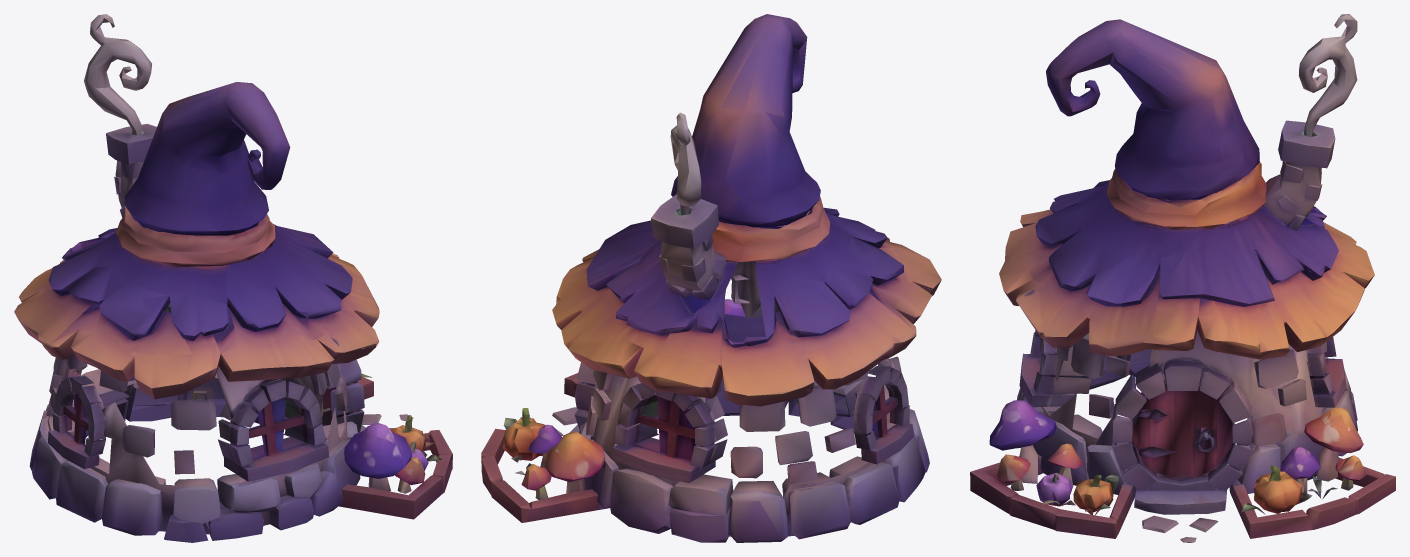
Rendered from L4_WitchCottage_LOD2.fbx.
The picture shows the model from 3 angles, left to right: view 1: azimuth 30°, elevation 25°; view 2: azimuth 150°, elevation 25°; view 3: azimuth 270°, elevation 25°; orthographic projection. The views are drawn at different scales.
Visible parts, largest first — view 1: L4_WitchCottage_LOD2; view 2: L4_WitchCottage_LOD2; view 3: L4_WitchCottage_LOD2.
Boxes of the visible parts, left/top/right/bottom form: L4_WitchCottage_LOD2: left=14, top=14, right=452, bottom=542; L4_WitchCottage_LOD2: left=481, top=14, right=941, bottom=542; L4_WitchCottage_LOD2: left=970, top=14, right=1395, bottom=542.
Size of the model in its own units: 5.7 by 6 by 5.52.
1 material, 1 textured.
